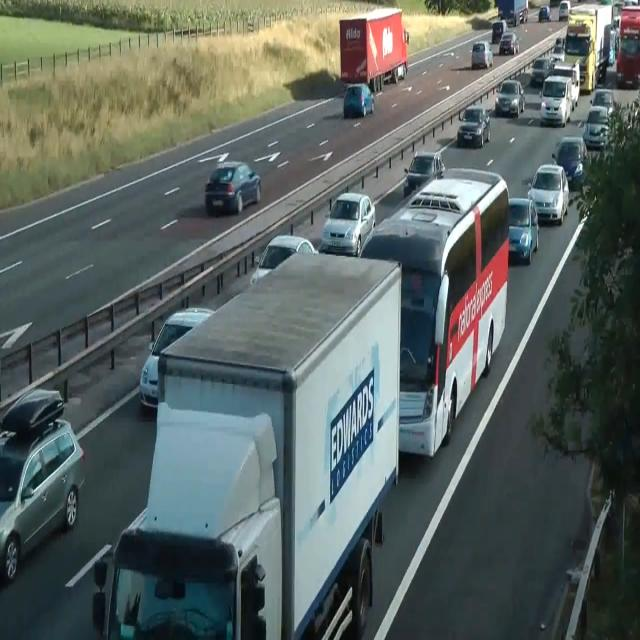bus: (0, 417, 86, 583), (139, 306, 215, 412), (320, 192, 376, 256), (250, 234, 318, 285), (204, 160, 262, 216), (0, 388, 64, 438), (527, 162, 569, 225), (508, 196, 539, 264), (403, 150, 445, 198), (552, 136, 588, 189), (457, 105, 491, 147), (582, 105, 612, 149), (495, 79, 525, 117), (343, 83, 375, 118), (590, 88, 616, 116), (530, 57, 554, 85), (471, 41, 493, 68), (498, 31, 518, 55), (550, 42, 564, 66), (538, 5, 551, 22)
car: (358, 165, 510, 459)
jeep: (539, 74, 572, 126), (558, 0, 570, 20)
minibus: (92, 252, 402, 639), (339, 7, 409, 92), (555, 3, 613, 93), (614, 6, 640, 89), (497, 0, 528, 26), (491, 18, 507, 44)
